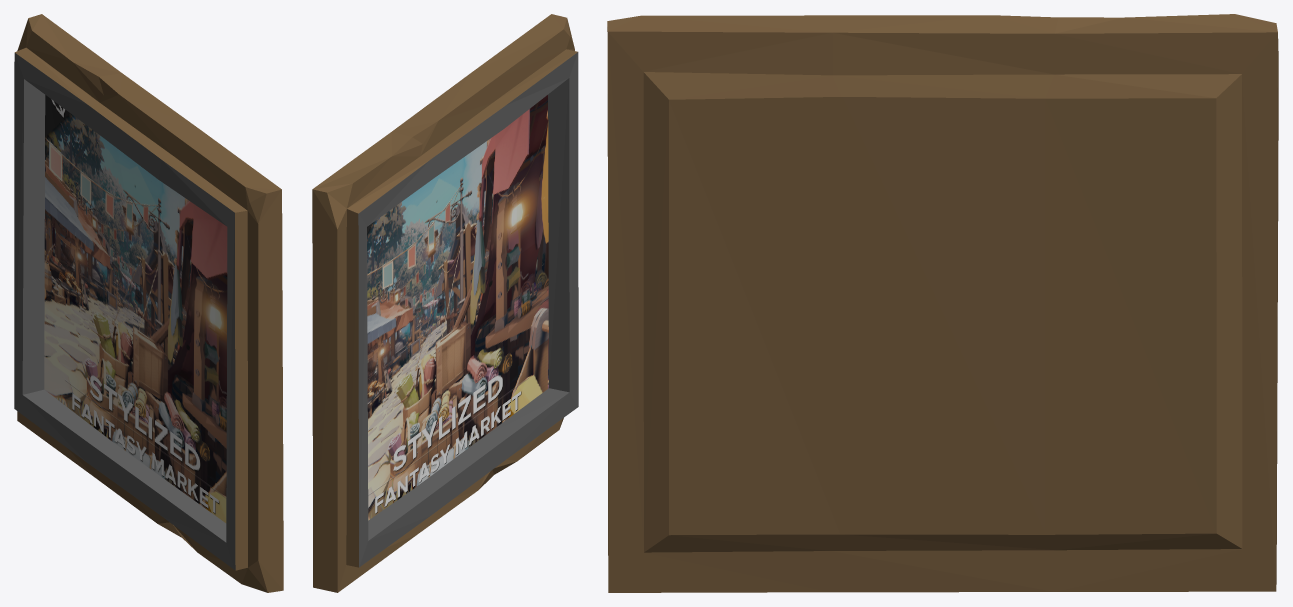
File: SFI_Portrait_008.fbx
3 renders of one model, left to right at view 1: azimuth 30°, elevation 25°; view 2: azimuth 150°, elevation 25°; view 3: azimuth 270°, elevation 25°, orthographic. The views are drawn at different scales.
Visible parts, largest first — view 1: SFI_Portrait_008; view 2: SFI_Portrait_008; view 3: SFI_Portrait_008.
Boxes of the visible parts, box(x1,y1,x2,y2) form: SFI_Portrait_008: box(14, 14, 283, 592); SFI_Portrait_008: box(312, 14, 578, 592); SFI_Portrait_008: box(607, 14, 1278, 592).
Size of the model in its own units: 5.27 by 44.26 by 48.06.
